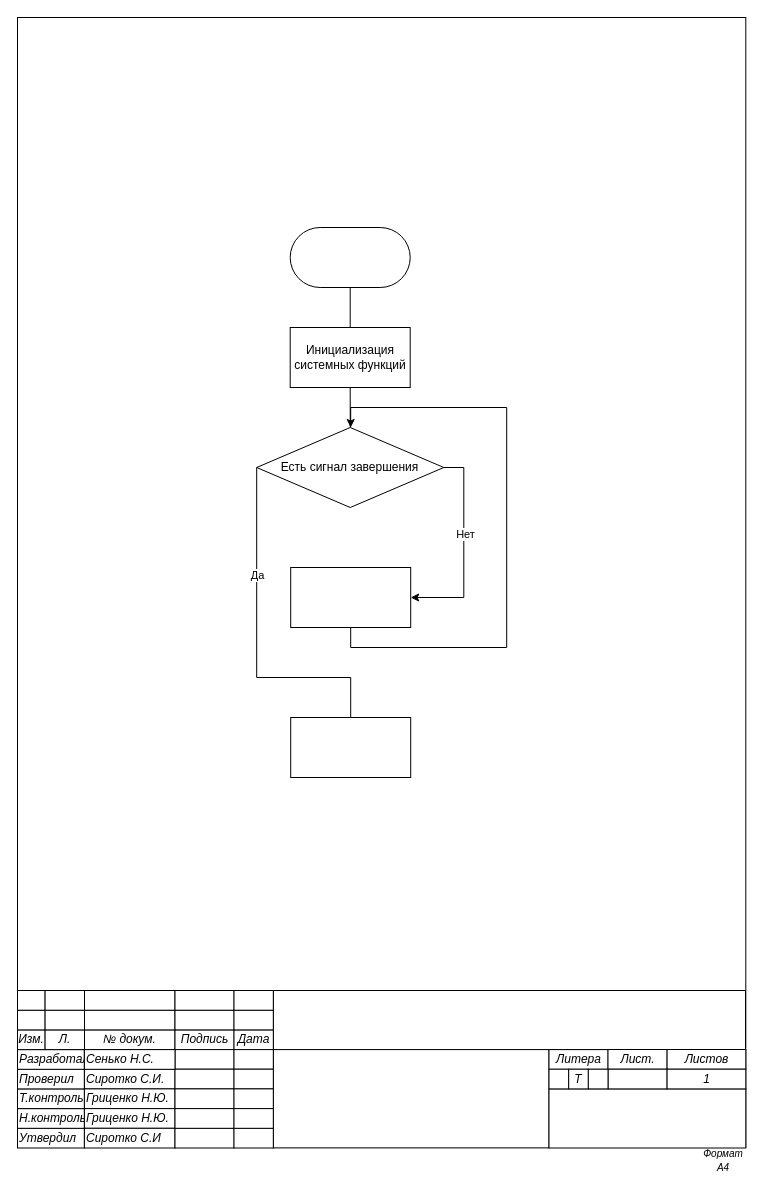
This 767x1190 diagram has some shape labels left out. The shapes that lost their labels are listed below. From the top down, each one's centre as x and y in pixels, then its label:
At pixel 349 257: "НАЧАЛО".
At pixel 350 597: "Обработка системных вызовов файловой системы".
At pixel 350 747: "КОНЕЦ".
At pixel 509 1020: "ГУИР.253505-02 СА".
At pixel 410 1098: "Блок схема алгоритма. Схема алгоритма".
At pixel 647 1118: "Кафедра информатики, гр. 253505".
